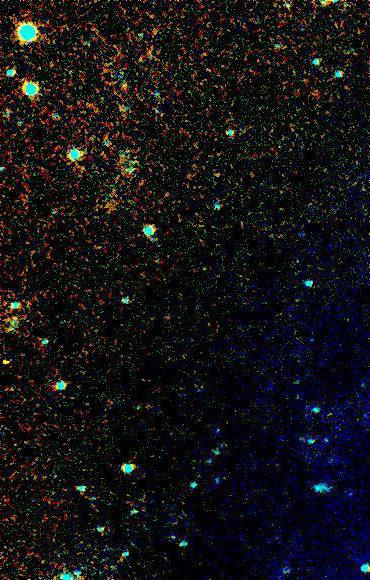star: (113, 69, 143, 99)
